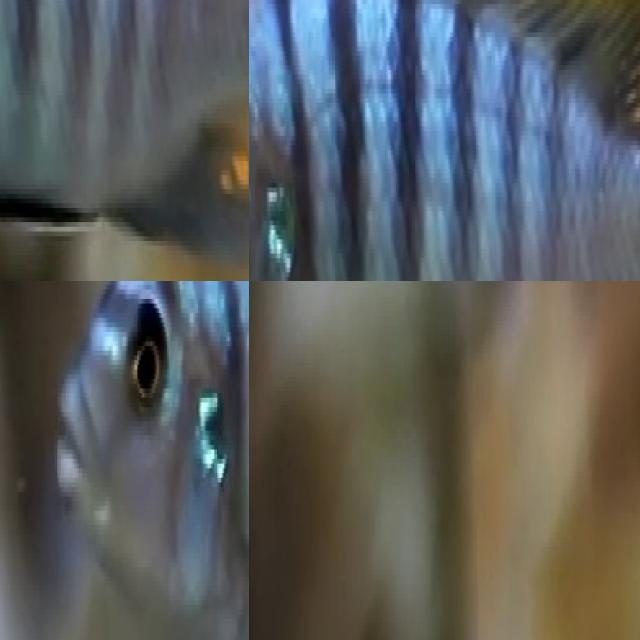fish: (249, 0, 640, 281), (33, 281, 249, 640), (0, 0, 249, 281)
